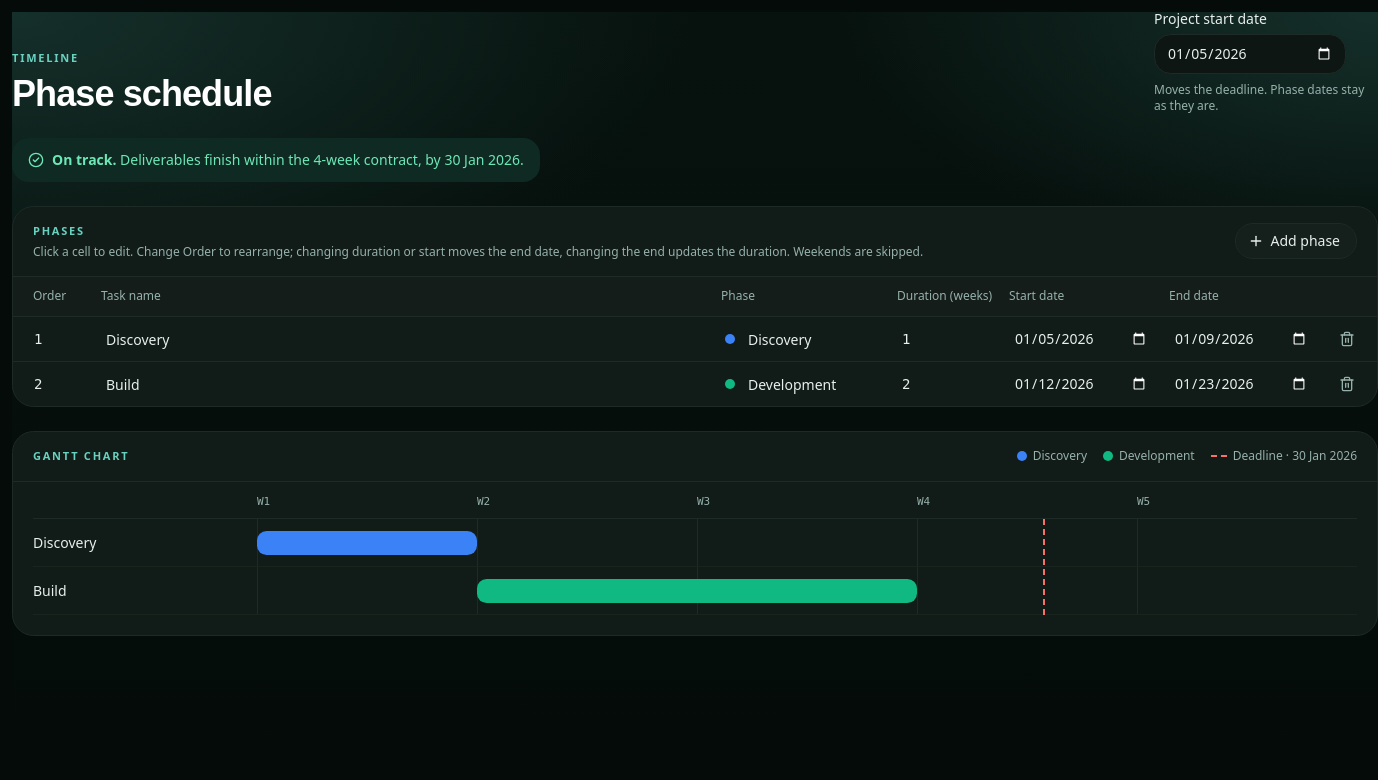
Test case: Timeline › reports API errors and keeps the plan unchanged
Click the button named "Delete Build": (1347, 384) x1=1329 y1=366 x2=1365 y2=402
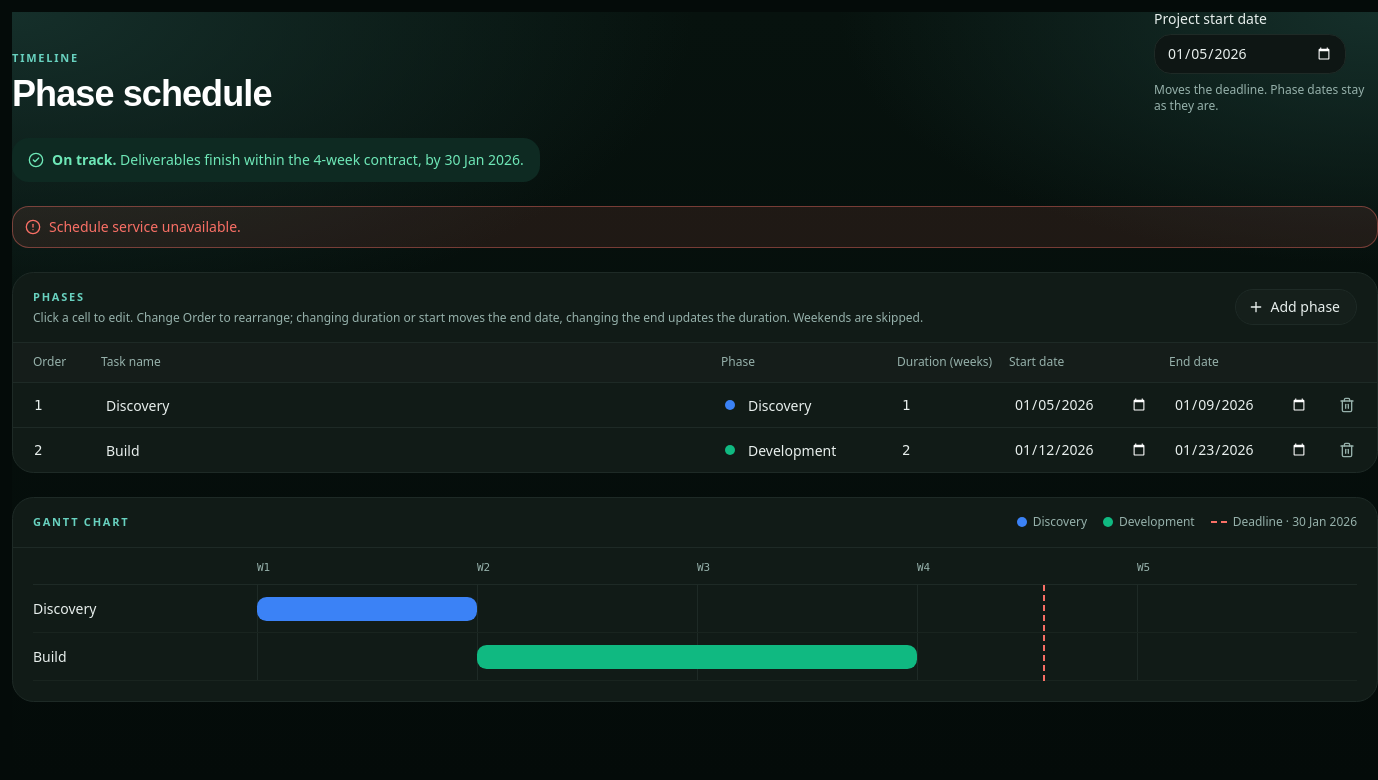
Result: the message reads "Schedule service unavailable." at x1=49 y1=217 x2=241 y2=236
